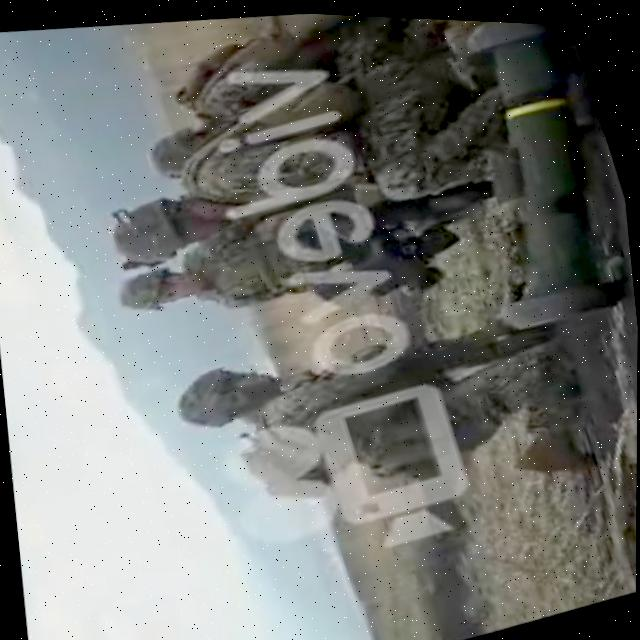rocket: (404, 14, 631, 337)
